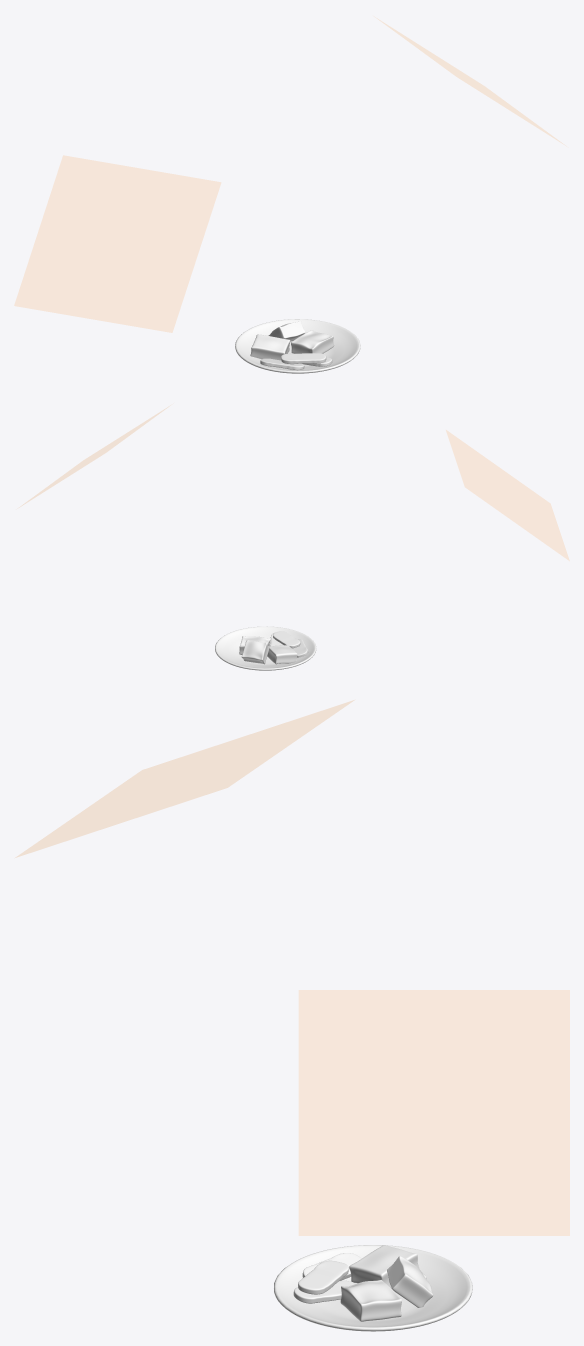
The model's file is gorengan.glb.
The picture shows the model from 3 angles, top to bottom: view 1: azimuth 30°, elevation 25°; view 2: azimuth 150°, elevation 25°; view 3: azimuth 270°, elevation 25°; orthographic projection. The views are drawn at different scales.
Visible parts, largest first — view 1: Plane.002, plate, Plane.001, tahu utuh.001, tahu utuh, tempe.001, tahu iris; view 2: Plane.002, plate, Plane.001, tahu iris, tahu utuh.001; view 3: Plane.001, Plane.002, plate, tahu utuh, tahu iris, tahu utuh.001, tempe.001.
Boxes of the visible parts, x1,y1,x2,y2 form: Plane.002: (14, 155, 221, 332); plate: (235, 319, 360, 373); Plane.001: (373, 16, 568, 147); tahu utuh.001: (250, 334, 290, 360); tahu utuh: (291, 330, 334, 353); tempe.001: (281, 353, 326, 364); tahu iris: (268, 321, 305, 341); Plane.002: (446, 430, 569, 561); plate: (215, 626, 316, 670); Plane.001: (16, 403, 173, 509); tahu iris: (241, 640, 269, 664); tahu utuh.001: (267, 645, 297, 664); Plane.001: (298, 990, 569, 1235); Plane.002: (14, 699, 355, 858); plate: (274, 1245, 472, 1331); tahu utuh: (340, 1279, 401, 1321); tahu iris: (387, 1256, 433, 1307); tahu utuh.001: (349, 1245, 419, 1288); tempe.001: (298, 1260, 348, 1294).
Size of what is drawn, in the model's own units: 2.99 by 1.3 by 1.57.
